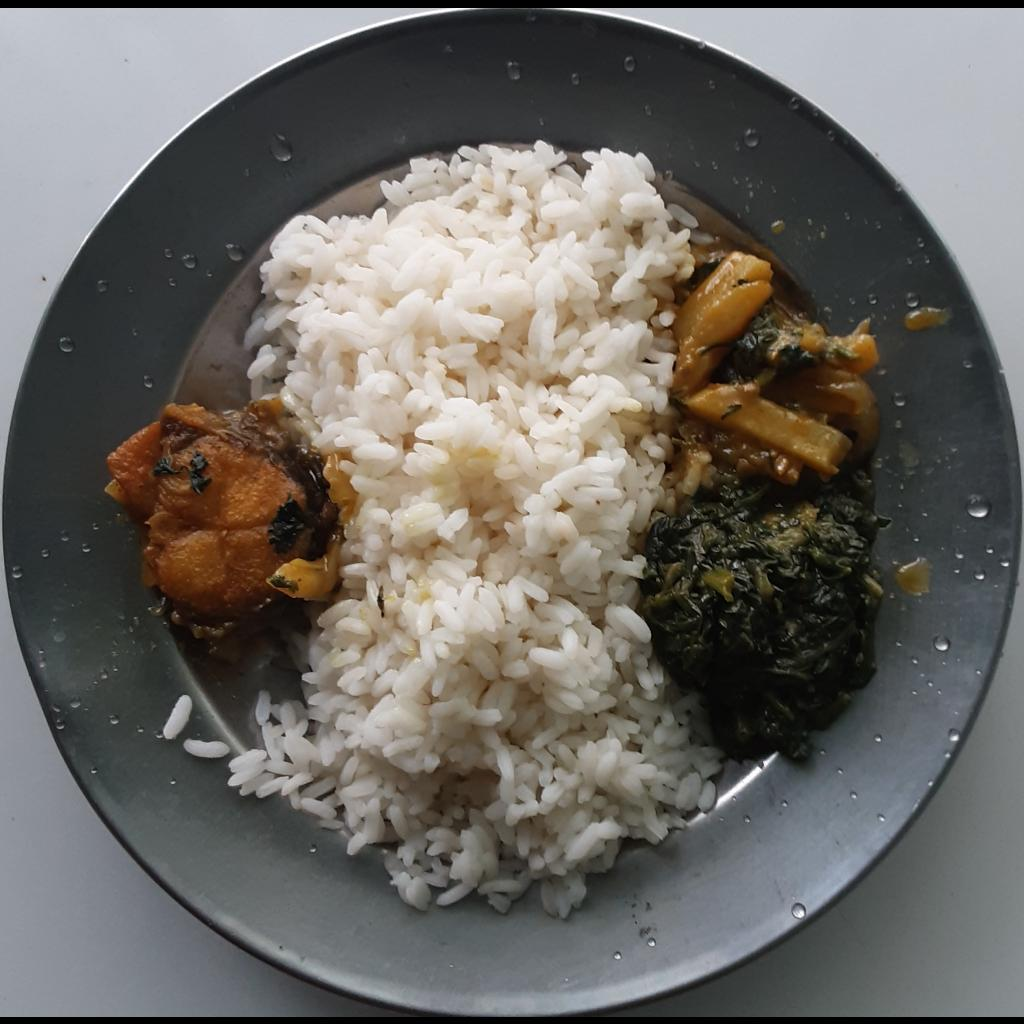fish: (101, 391, 339, 658)
potato: (673, 238, 885, 507)
rice: (153, 134, 730, 918)
shak: (654, 453, 895, 759)
